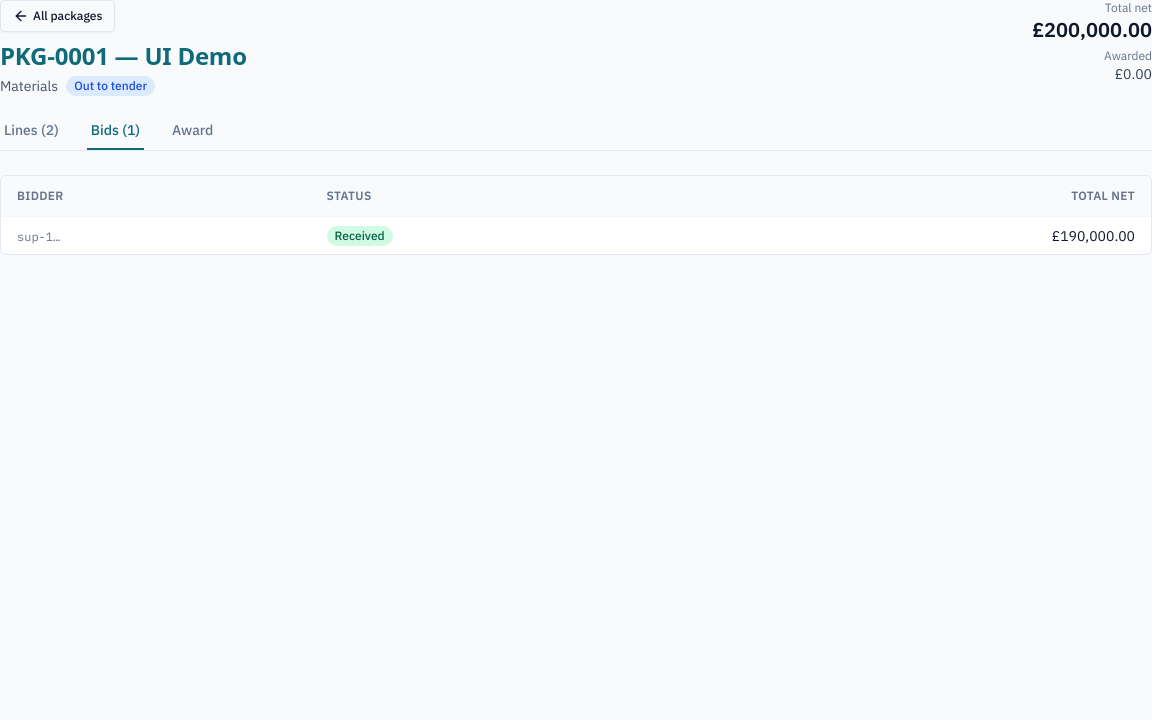
Scenario: award form submit NEVER sends net_amount (server-truth invariant)
Later steps or results of the test are not shown.
Click the button with test id "package-tab-award" at (193, 135), box 168,120 -> 217,150
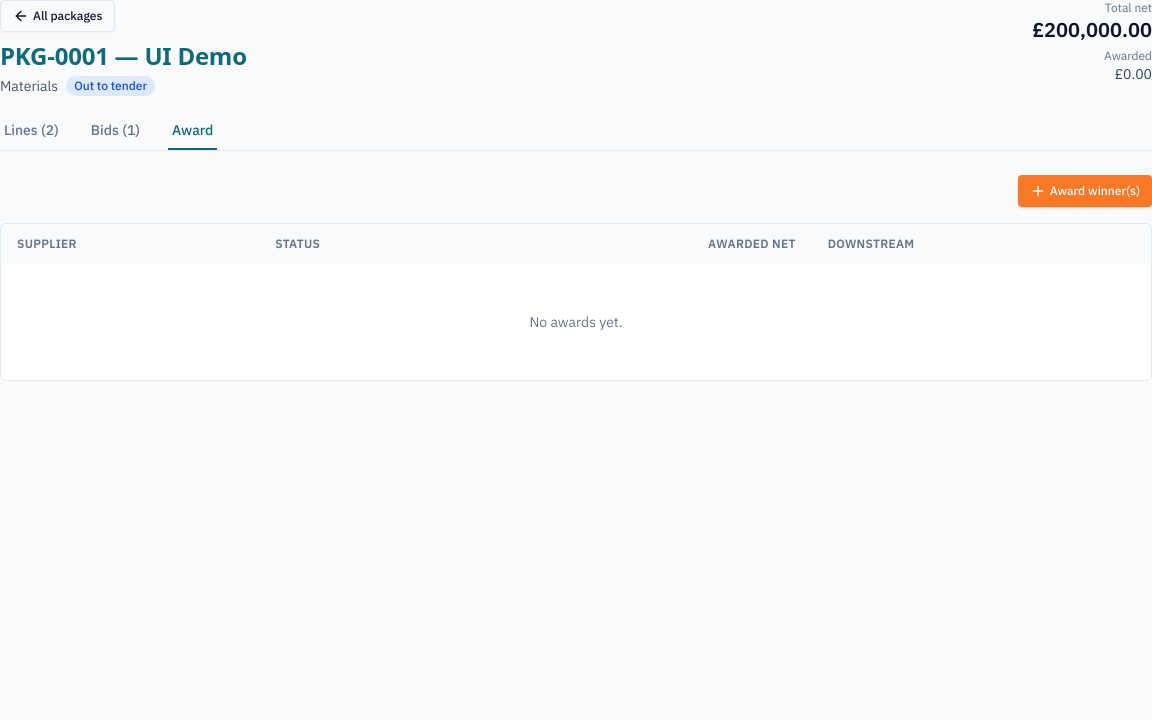
Click the button with test id "package-award-open" at (1085, 191), box 1018,175 -> 1151,207
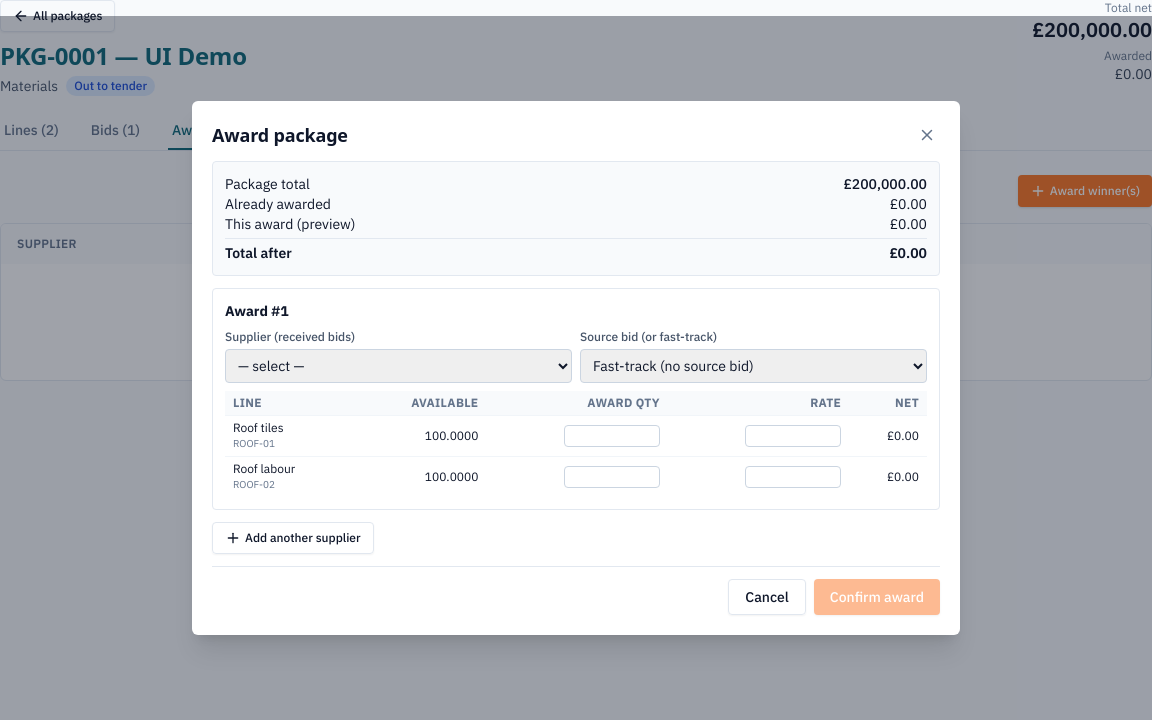
expect the dialog with test id "award-form-dialog" is shown: met
Select "sup-1… (£190,000.00)" in the dropdown with test id "award-spec-supplier-0" at (398, 366), box 225,349 -> 572,383
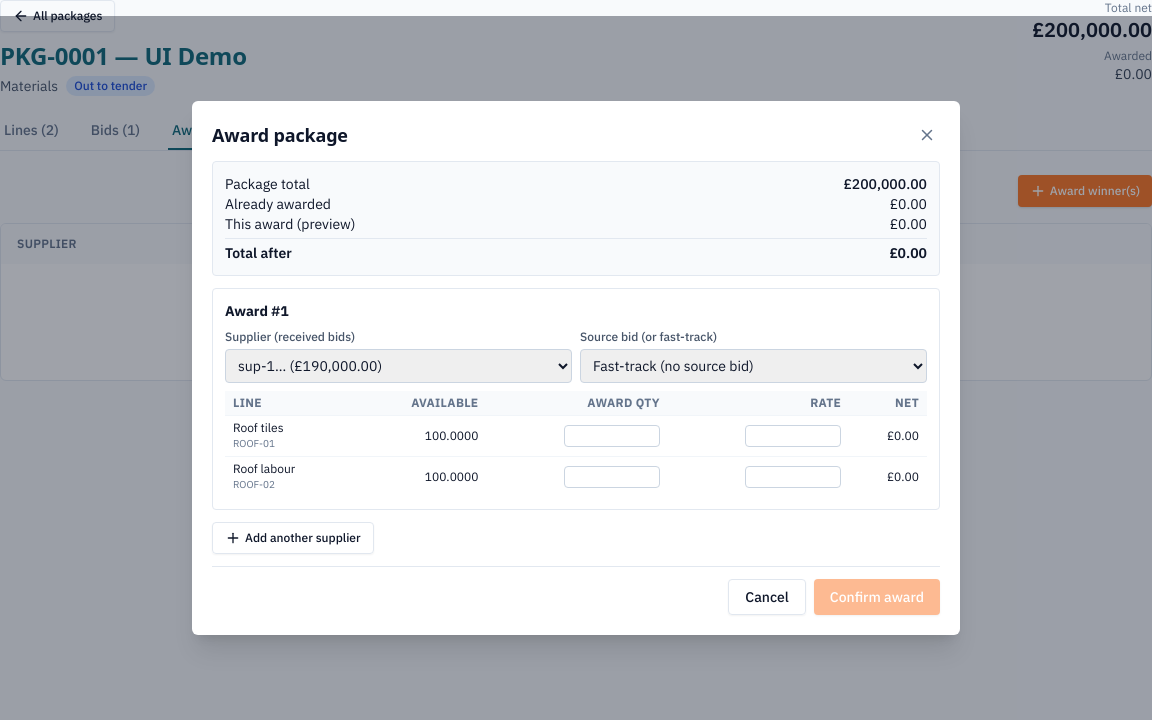
Type "50" into the number field with test id "award-spec-0-qty-0" at (612, 436), box 564,425 -> 660,447
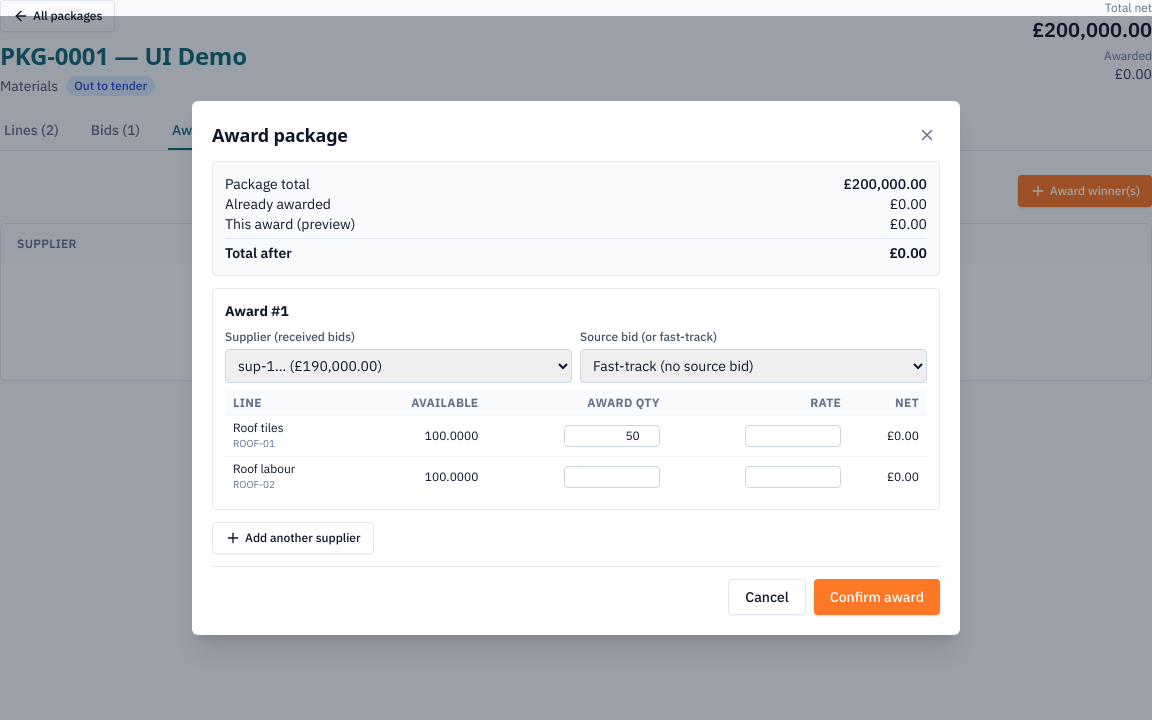
Type "950" into the number field with test id "award-spec-0-rate-0" at (793, 436), box 745,425 -> 841,447
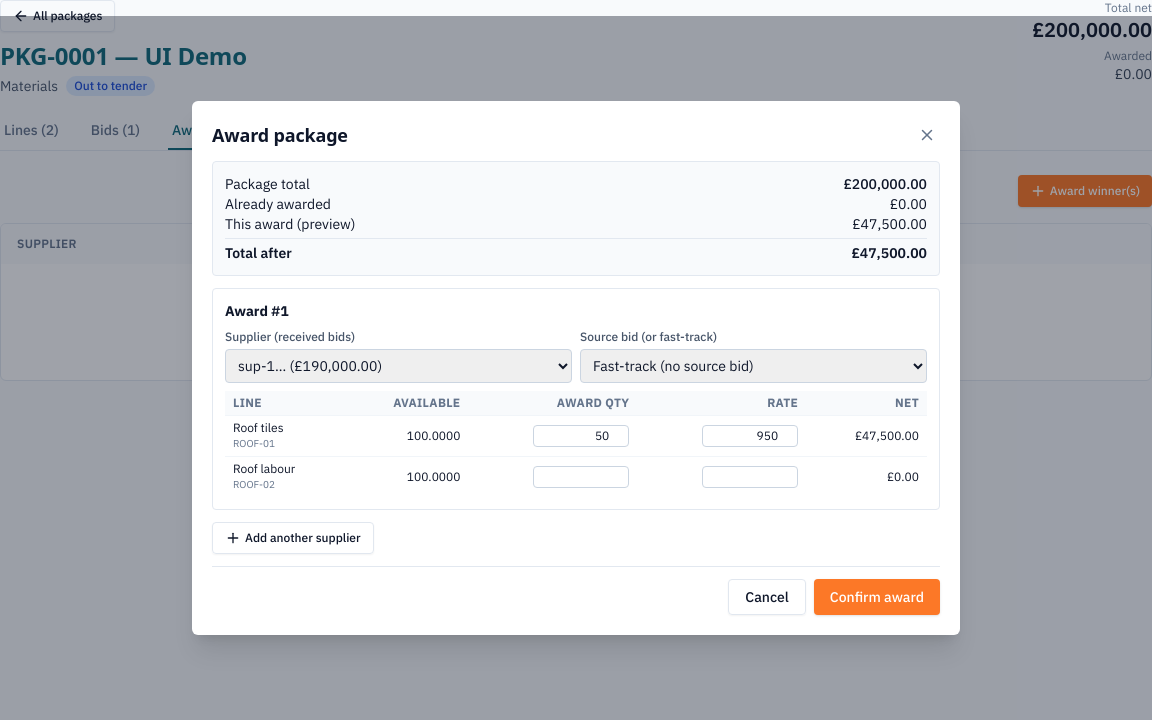
expect the button with test id "award-form-submit" is enabled: met, box 814,579 -> 940,615
